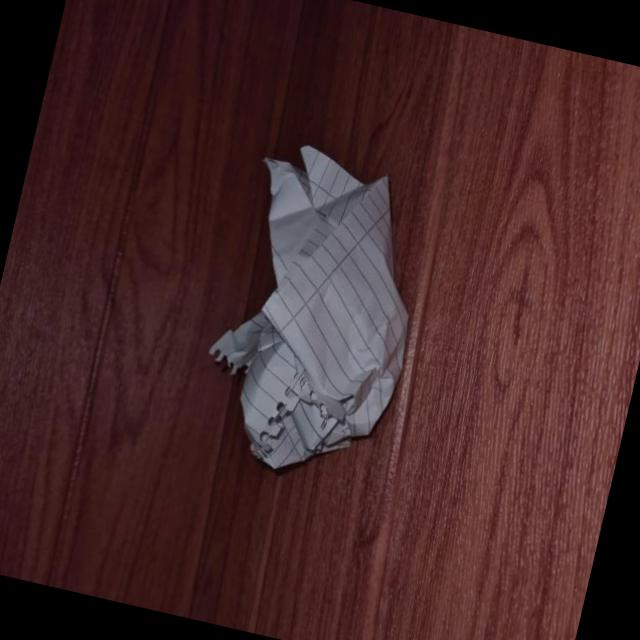cardboard paper: (209, 143, 406, 465)
